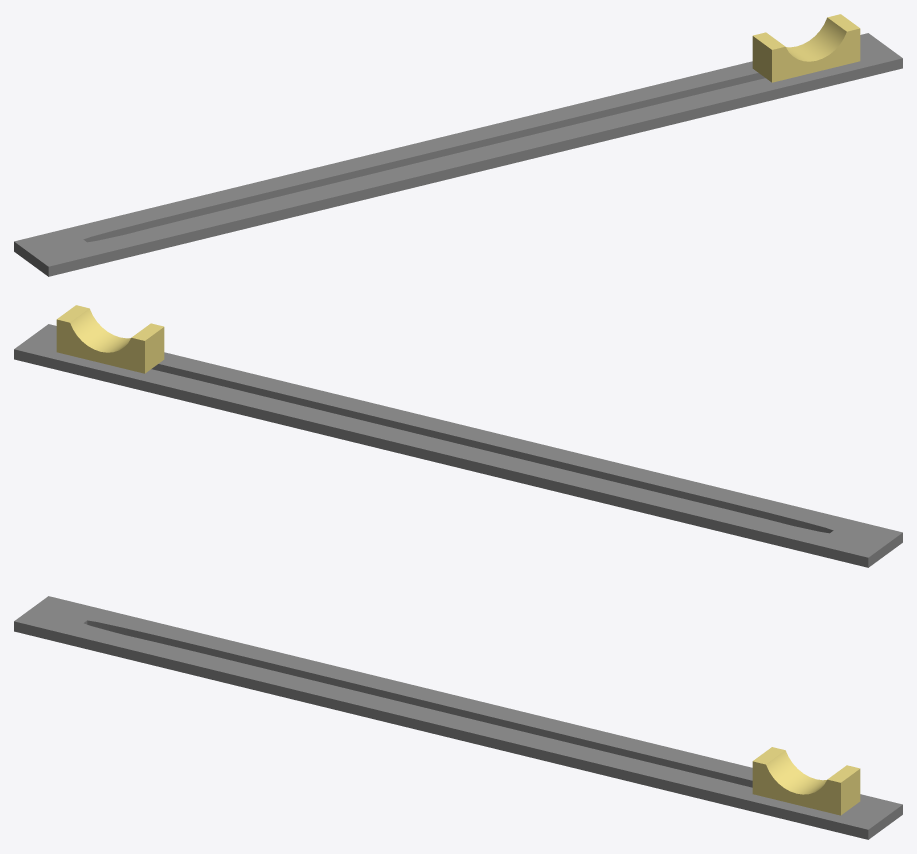
The model's file is slider 2 v2.glb.
3 views of the same model, one above another, from view 1: azimuth 30°, elevation 25°; view 2: azimuth 150°, elevation 25°; view 3: azimuth 330°, elevation 25° (orthographic).
Visible parts, largest first — view 1: Slider 2 Area, Slider 2; view 2: Slider 2 Area, Slider 2; view 3: Slider 2 Area, Slider 2.
Boxes of the visible parts, box(x1,y1,x2,y2) form: Slider 2 Area: box(14, 33, 902, 276); Slider 2: box(752, 14, 860, 82); Slider 2 Area: box(14, 324, 902, 567); Slider 2: box(56, 305, 164, 373); Slider 2 Area: box(14, 596, 902, 839); Slider 2: box(752, 747, 860, 815).
Size of the model in its own units: 4.41 by 0.2126 by 0.3094.
